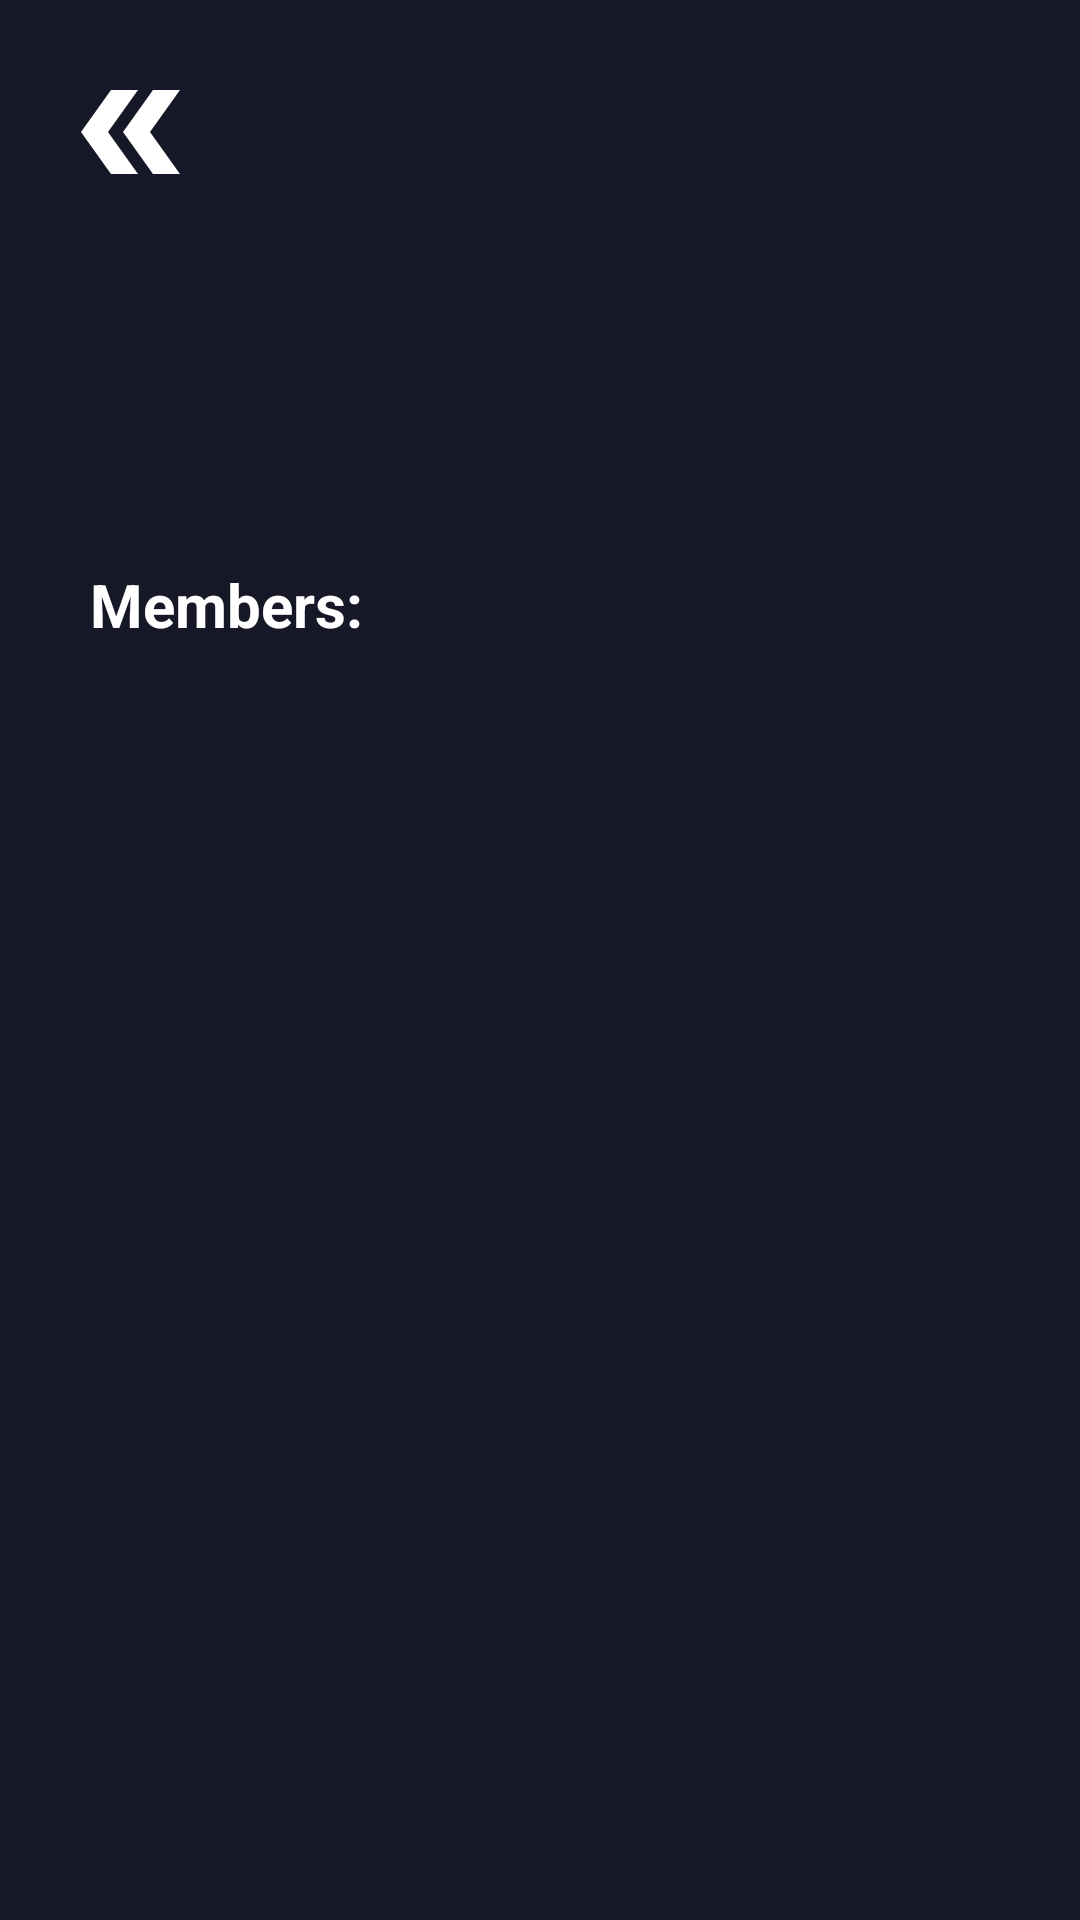

Point at icon controls on the screen. Image size 1080w x 1920h, points as point (x, y).
arrrowssc: point (130, 132)
